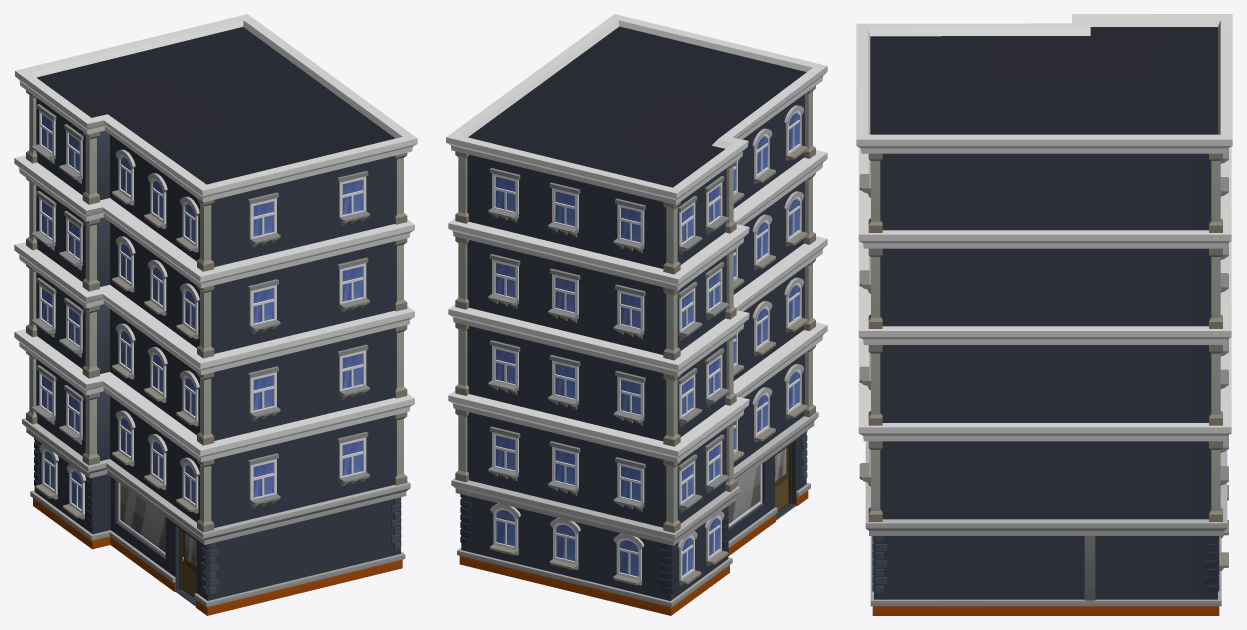
Rendered from Building_1_5_A.fbx.
The picture shows the model from 3 angles, left to right: view 1: azimuth 30°, elevation 25°; view 2: azimuth 150°, elevation 25°; view 3: azimuth 270°, elevation 25°; orthographic projection. The views are drawn at different scales.
Visible parts, largest first — view 1: Building_1_5_A; view 2: Building_1_5_A; view 3: Building_1_5_A.
Boxes of the visible parts, <box> form: Building_1_5_A: <box>14,14,417,615</box>; Building_1_5_A: <box>446,14,827,615</box>; Building_1_5_A: <box>856,14,1232,615</box>.
Size of the model in its own units: 847 by 1501 by 1067.
